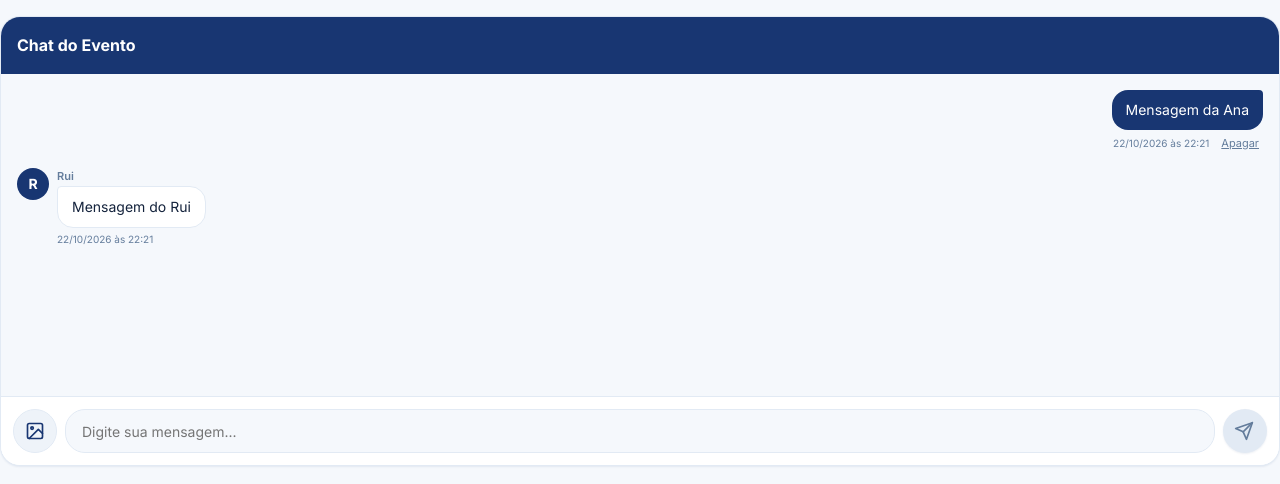
Test: Componente ChatBoard › envia mensagem com o id do usuário logado
Check: the text "Mensagem da Ana" is shown, box [1126,101,1249,118]
In the field labelled "mensagem": (640, 431) [65,409,1215,453], type "  Olá  "
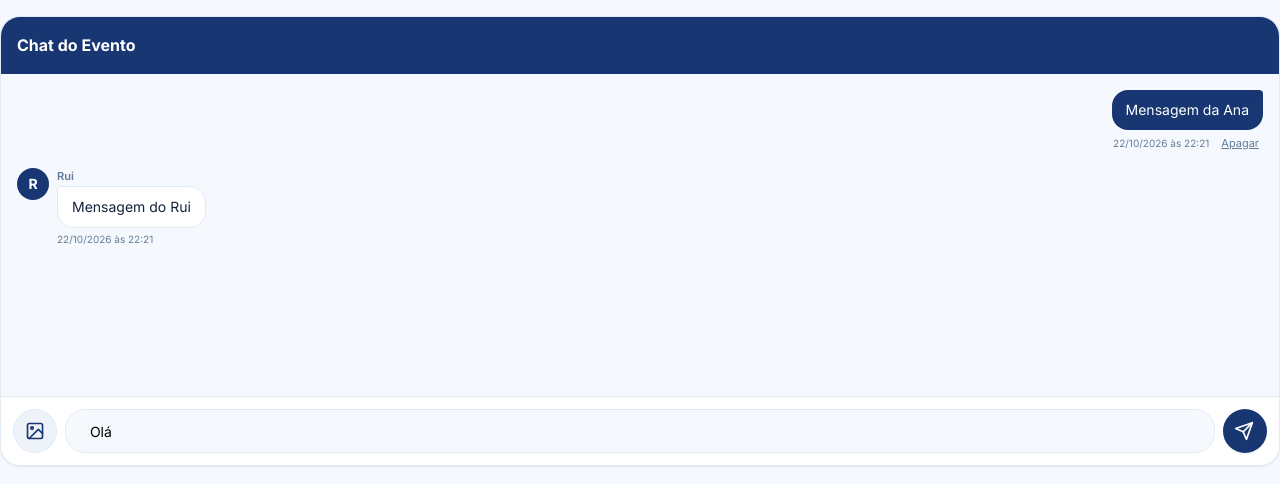
Click the button named "enviar mensagem": (1245, 431) [1223,409,1267,453]
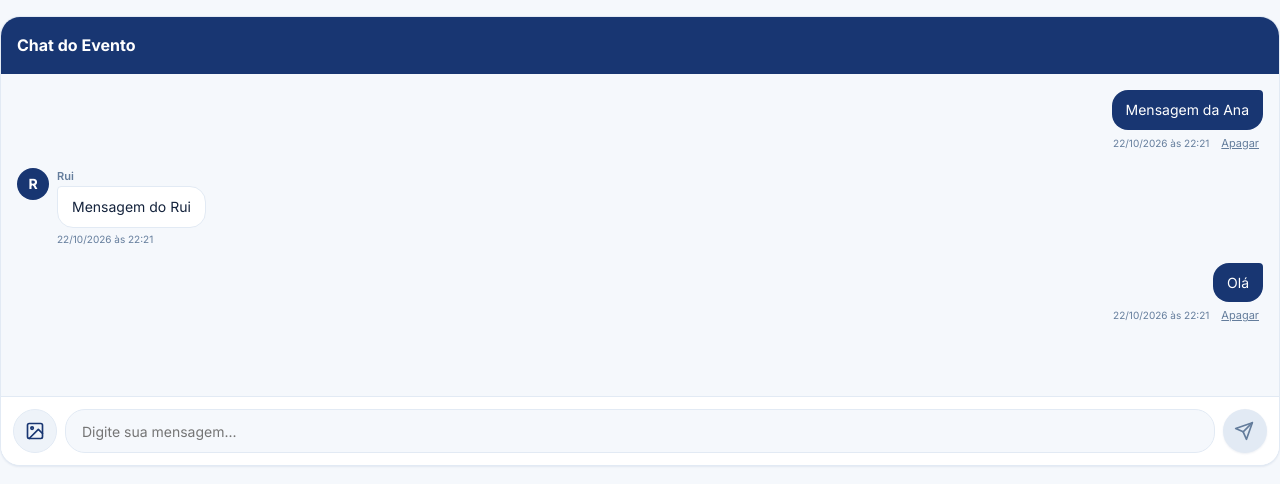
Check: the text "Olá" is shown, box [1227,274,1249,291]
